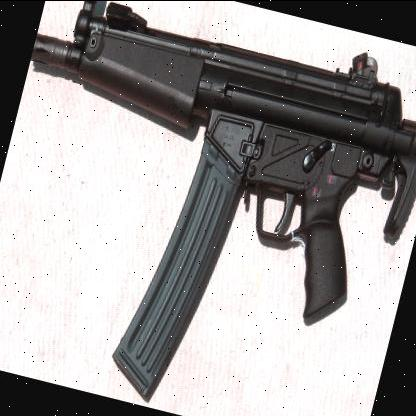rifle: (0, 0, 416, 383)
